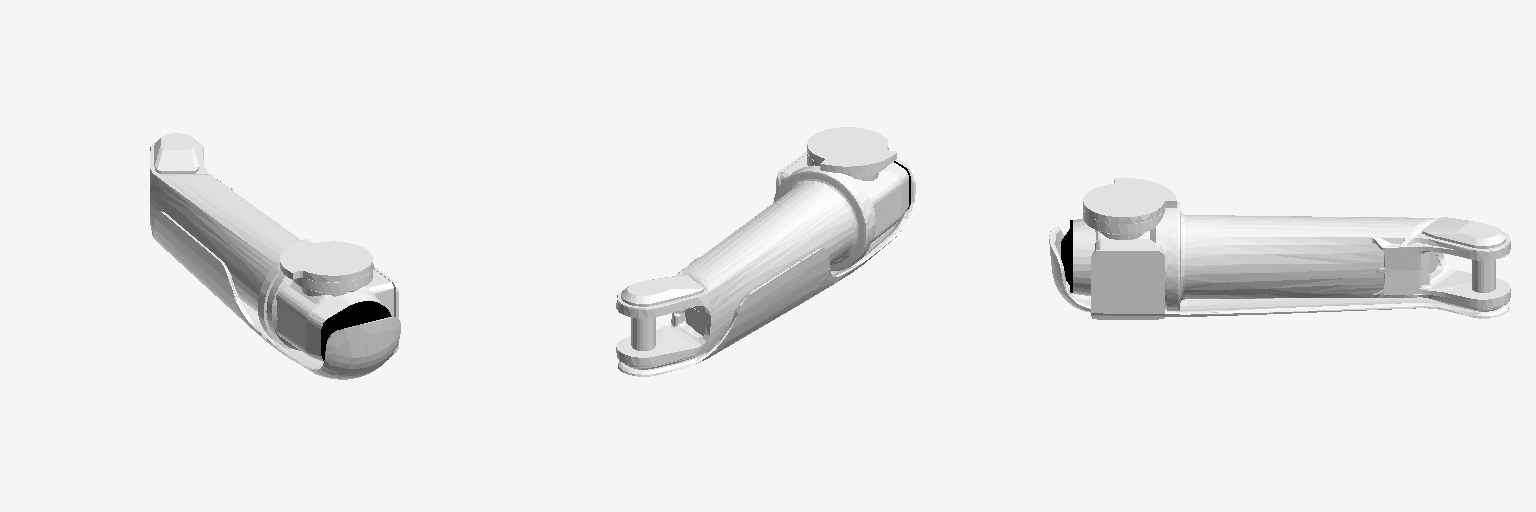
Rendered from fr_uleg_visuals_mesh_0.obj.
3 views of the same model, side by side, from view 1: azimuth 30°, elevation 25°; view 2: azimuth 150°, elevation 25°; view 3: azimuth 270°, elevation 25° (orthographic).
Size of the model in its own units: 0.101 by 0.108 by 0.4112.